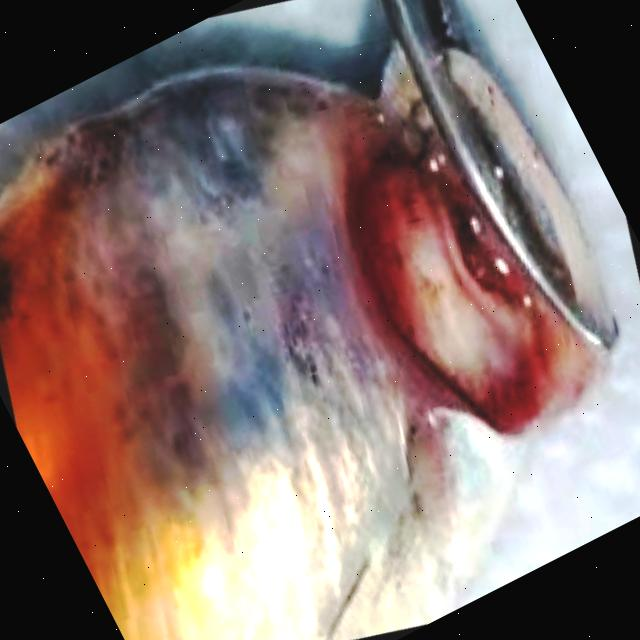Flavobacterium -Bacterial Gill Disease-: (0, 38, 618, 640)
